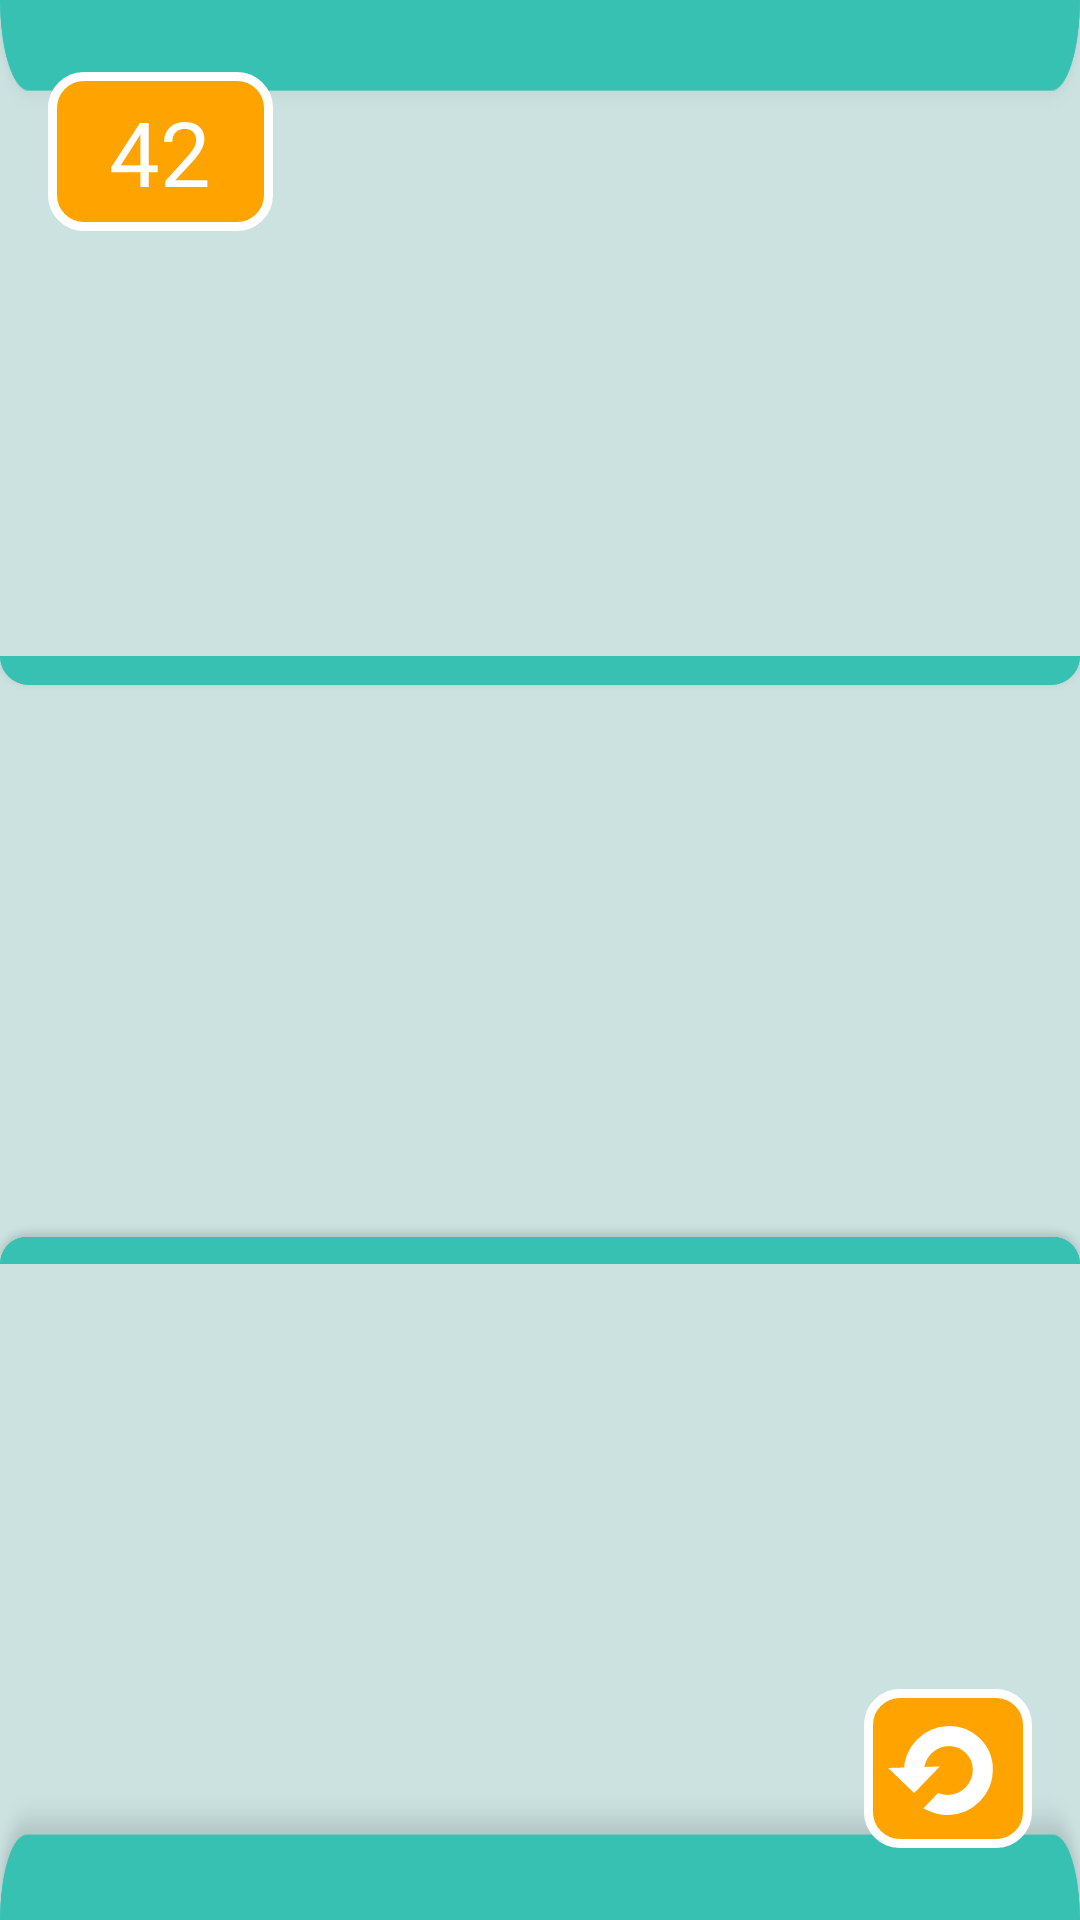

Point at icon controls on the screen. Image size 1080 × 1920, points as (x,y).
restart: (948,1768)
